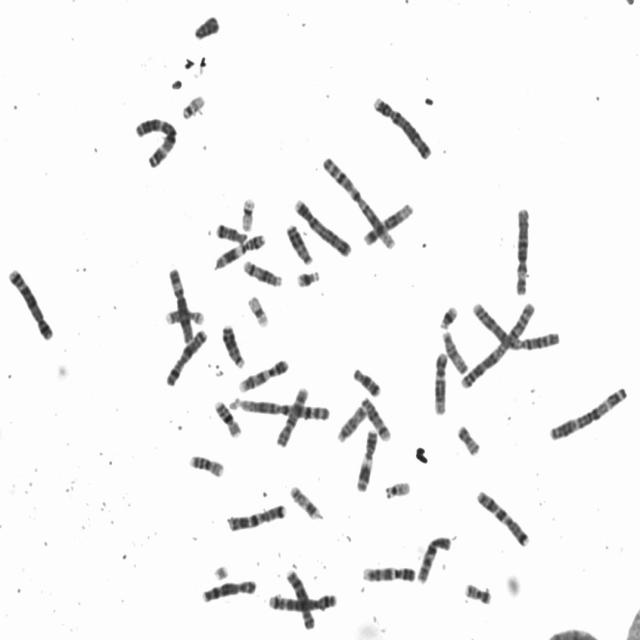A1: (317, 150, 399, 250), (230, 392, 332, 422)
A2: (457, 296, 538, 391), (468, 296, 562, 352)
A3: (544, 380, 630, 442), (130, 111, 179, 169)
B4: (369, 90, 434, 161), (290, 193, 354, 258)
B5: (5, 262, 56, 342), (264, 586, 340, 613)
C10: (272, 382, 311, 448), (413, 530, 453, 585)
C11: (209, 228, 268, 271), (351, 422, 380, 493)
C12: (360, 196, 416, 248), (429, 346, 450, 416)
C6: (164, 262, 196, 345), (510, 200, 532, 296)
C7: (472, 484, 532, 548), (222, 497, 288, 533)
C8: (282, 564, 316, 632), (197, 574, 258, 604)
C9: (234, 353, 290, 394), (358, 560, 417, 584)
D13: (282, 218, 314, 266), (218, 318, 246, 368)
D14: (356, 392, 393, 442), (238, 255, 284, 288)
D15: (438, 325, 470, 375), (332, 401, 368, 444)
E16: (210, 394, 243, 439), (185, 449, 226, 479)
E17: (286, 480, 324, 521), (161, 303, 206, 326)
E18: (348, 362, 383, 398), (212, 217, 249, 244)
F19: (243, 289, 271, 328), (236, 192, 258, 232)
F20: (452, 419, 482, 457), (460, 577, 494, 606)
G21: (435, 299, 460, 330), (292, 264, 322, 289)
G22: (177, 88, 207, 120), (380, 476, 412, 500)
X: (162, 323, 208, 388)
Y: (190, 9, 221, 41)
